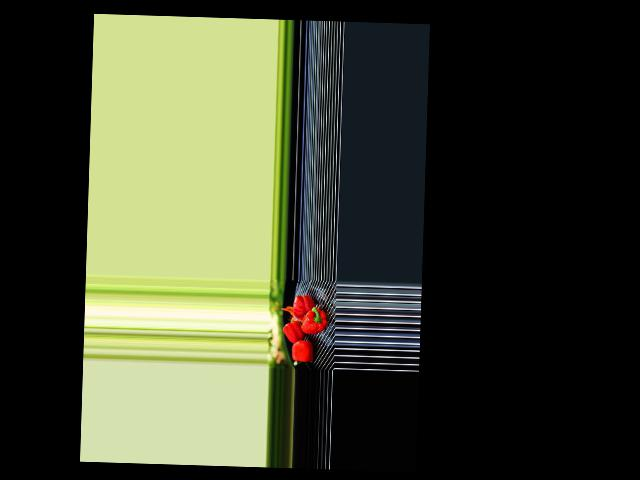bell_pepper: (291, 294, 313, 320)
